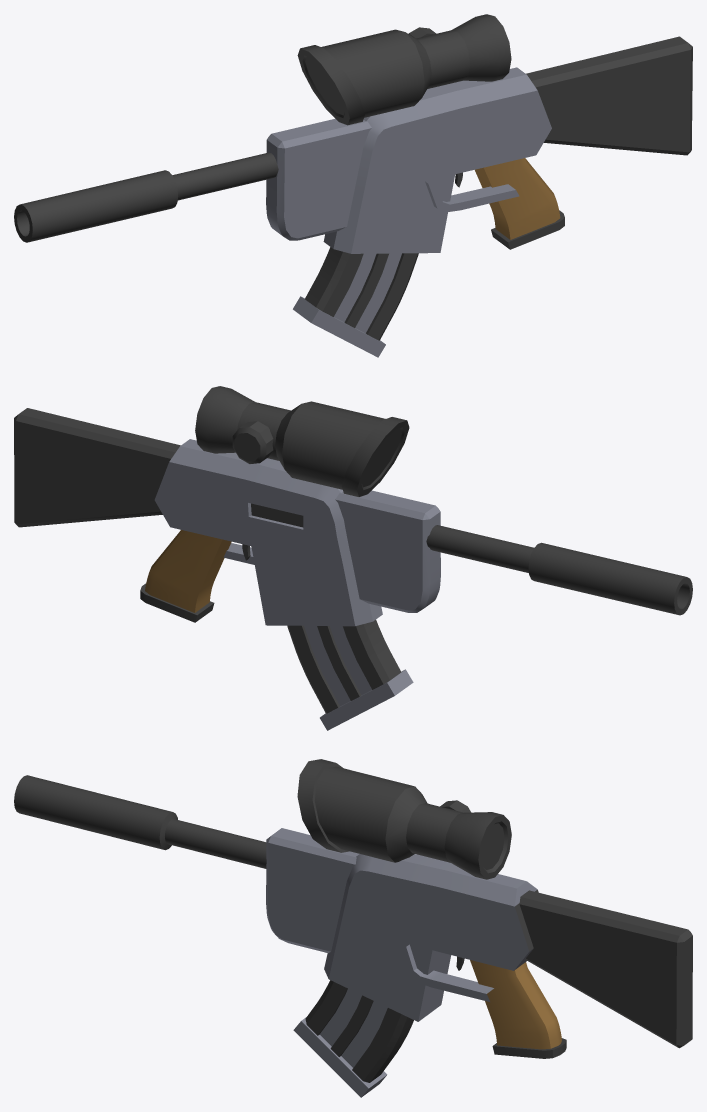
File: Sniper.glb
3 renders of one model, top to bottom at view 1: azimuth 30°, elevation 25°; view 2: azimuth 150°, elevation 25°; view 3: azimuth 330°, elevation 25°, orthographic.
Parts seen in each view (by area): view 1: Sniper_2; view 2: Sniper_2; view 3: Sniper_2.
Part boxes in pixels (x1,y1,x2,y2): Sniper_2: [14, 14, 692, 357]; Sniper_2: [14, 386, 692, 730]; Sniper_2: [14, 759, 692, 1097].
Size of the model in its own units: 1.74 by 0.7852 by 0.194.
